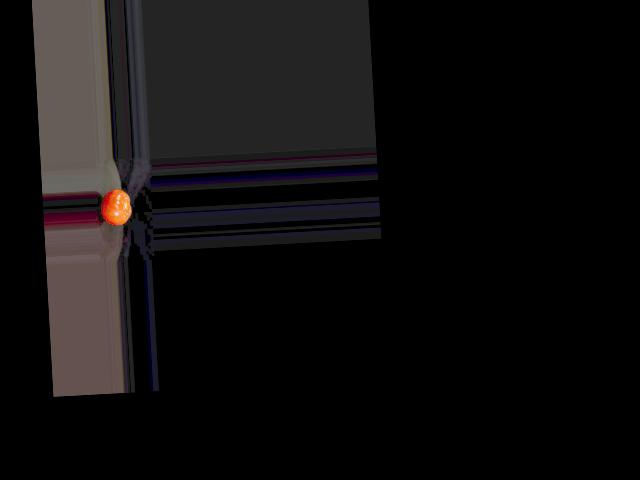tomato: (99, 188, 132, 227)
